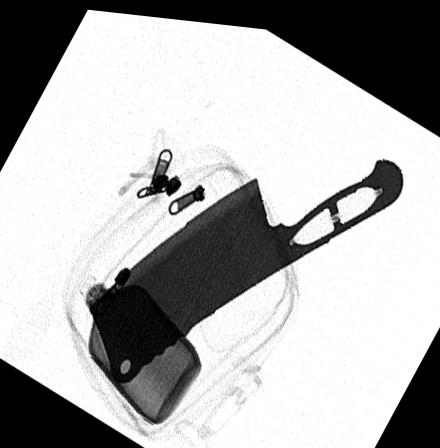Knife: (87, 148, 402, 382)
